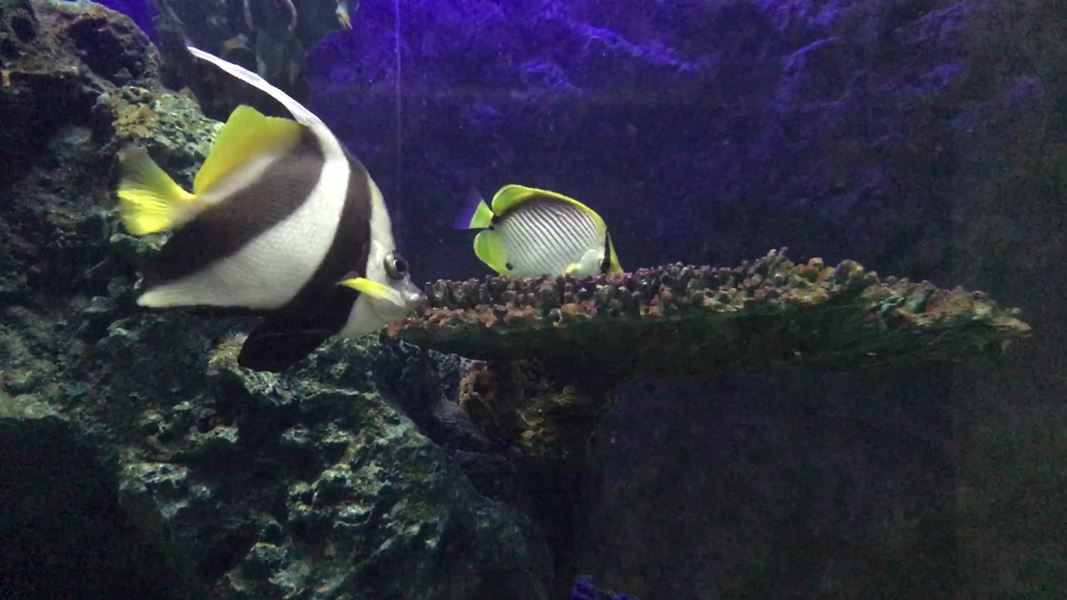Black-backed butterflyfish: (438, 175, 636, 288)
